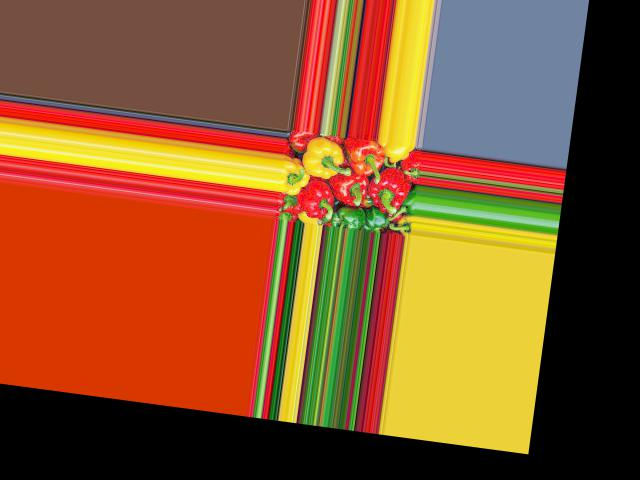bell_pepper: (384, 141, 410, 163)
